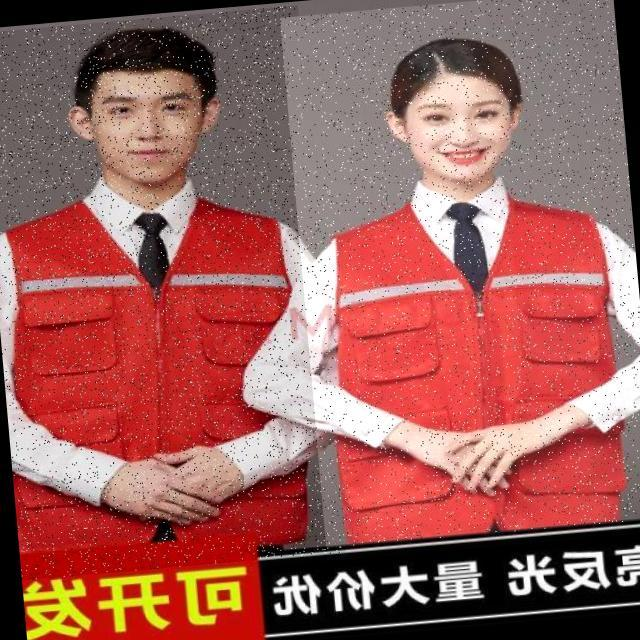Person: (244, 9, 640, 552), (0, 174, 322, 560)
Safety Vest: (324, 178, 637, 544)
bare-arms: (424, 398, 563, 511), (98, 429, 248, 529)
no-helmet: (0, 15, 324, 547), (383, 37, 539, 101), (63, 24, 229, 77)
